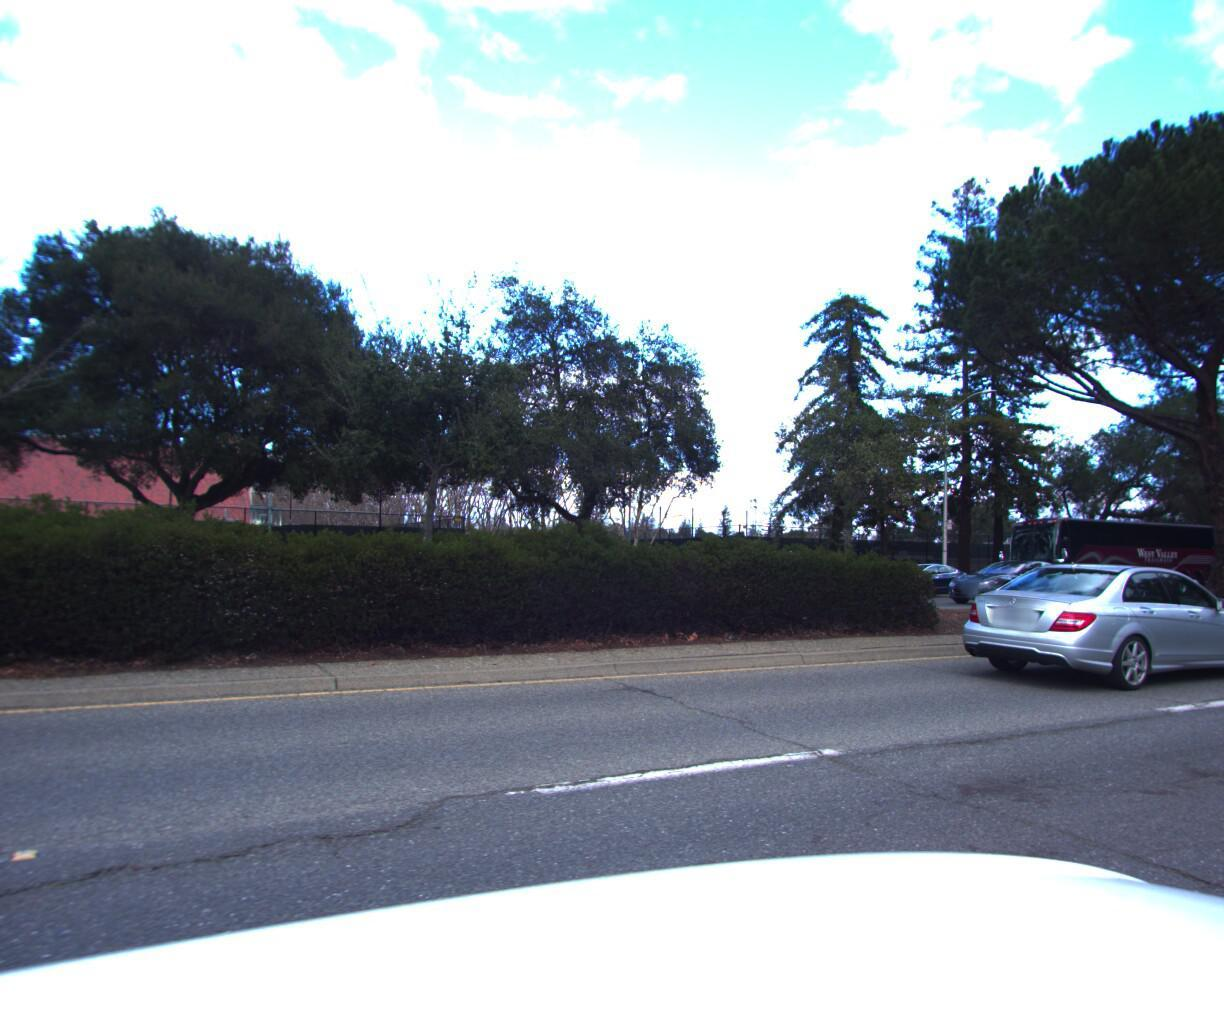bus: (989, 507, 1224, 593)
car: (940, 546, 1224, 692), (942, 549, 1084, 608), (861, 556, 977, 597), (1212, 555, 1224, 588)
